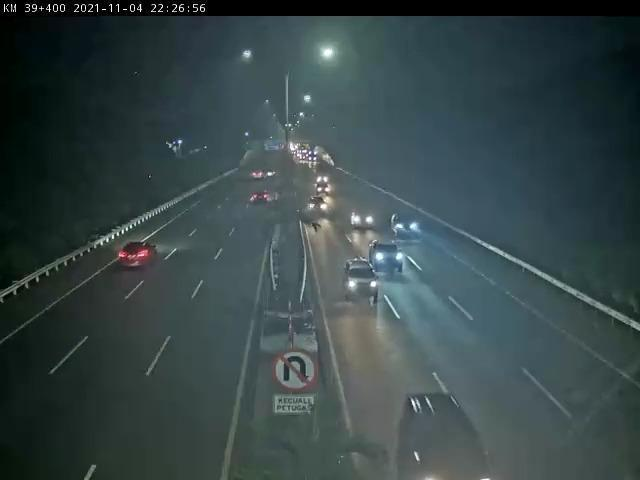car: (345, 258, 378, 302), (368, 237, 404, 274), (122, 240, 157, 270), (348, 208, 379, 230), (391, 215, 417, 240)
